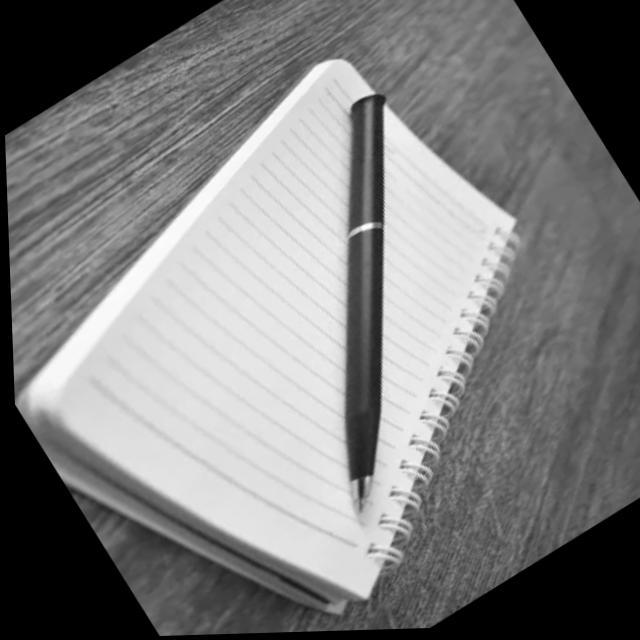pencil: (314, 73, 433, 524)
